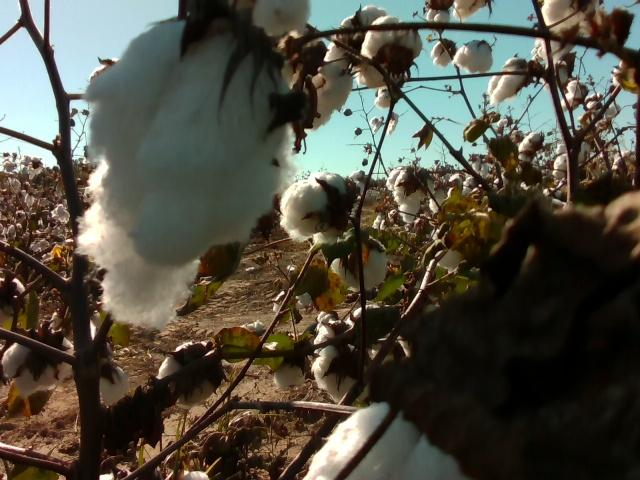cotton_ready: (86, 12, 292, 268), (304, 408, 466, 480), (102, 256, 201, 335), (280, 170, 359, 244), (311, 322, 370, 406), (159, 342, 225, 408), (2, 337, 75, 395), (290, 60, 351, 129), (329, 7, 388, 72), (330, 236, 389, 293), (362, 16, 424, 65), (278, 29, 324, 89), (259, 339, 314, 389), (387, 167, 434, 225), (252, 0, 310, 36), (488, 59, 534, 104), (543, 0, 599, 32), (431, 232, 465, 272), (456, 41, 495, 73), (347, 305, 387, 335), (99, 366, 128, 407), (530, 36, 572, 62), (452, 0, 485, 22), (353, 66, 386, 86)
